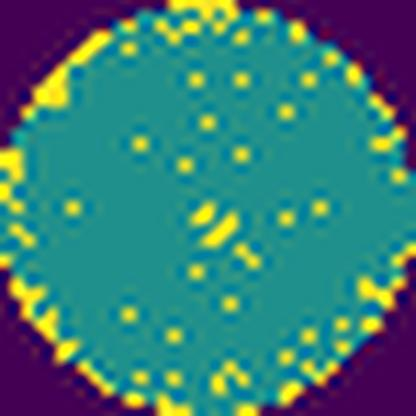Edge-Loc: (6, 265, 134, 409), (18, 30, 109, 119), (158, 0, 251, 20)
